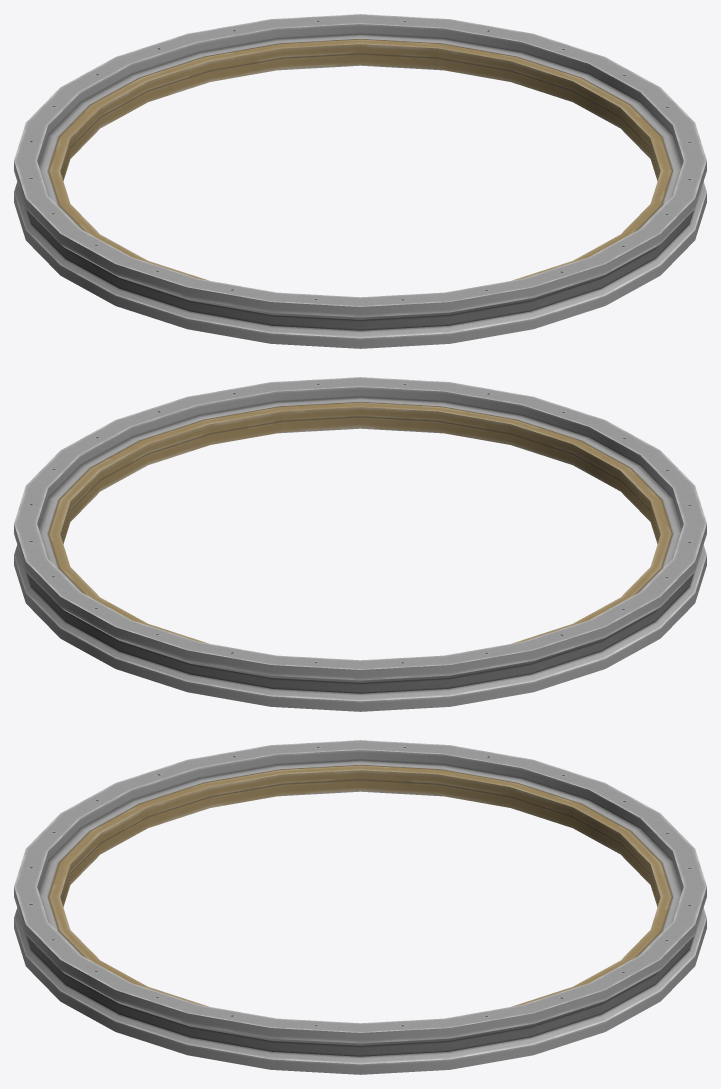
File: LLV_G_Decoupler_1.obj
The picture shows the model from 3 angles, top to bottom: view 1: azimuth 30°, elevation 25°; view 2: azimuth 150°, elevation 25°; view 3: azimuth 270°, elevation 25°; orthographic projection.
Parts seen in each view (by area): view 1: LLV_G_Decoupler_1; view 2: LLV_G_Decoupler_1; view 3: LLV_G_Decoupler_1.
Part boxes in pixels (x1,y1,x2,y2): LLV_G_Decoupler_1: (14,14,706,348); LLV_G_Decoupler_1: (14,377,706,711); LLV_G_Decoupler_1: (14,740,706,1074).
Size of the model in its own units: 1.88 by 0.125 by 1.88.
